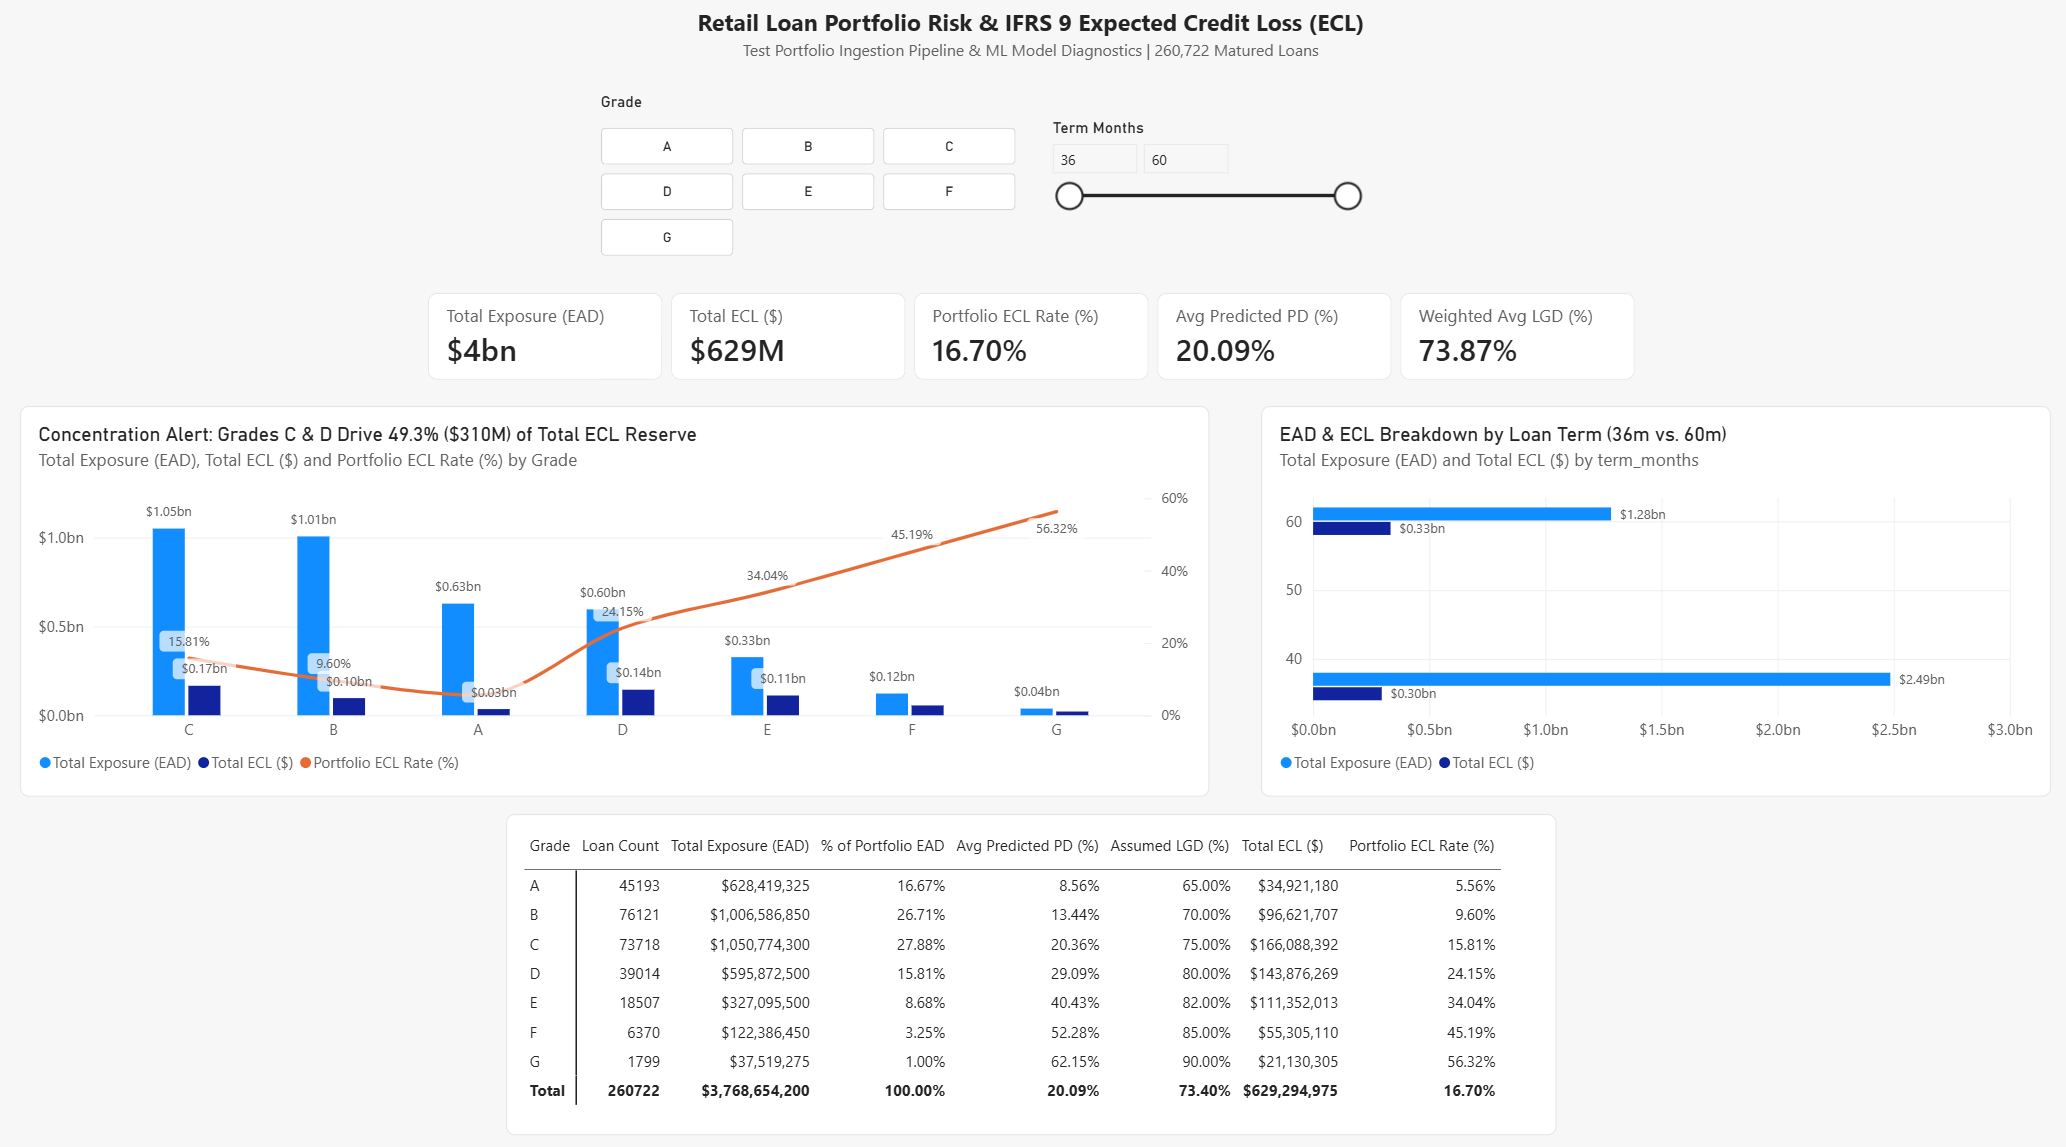

Layout of this report page (visuals, bound fields, positions):
{"tool":"powerbi","page":{"name":"Executive Portfolio & ECL Provisioning Summary","canvas":[1920,1080],"ordinal":0},"visuals":[{"type":"textbox","title":"Retail Loan Portfolio Risk & IFRS 9 Expected Credit Loss (ECL)","box":[648,16,632,64],"z":0},{"type":"advancedSlicerVisual","fields":{"Values":["powerbi_ecl_loan_predictions.Grade"]},"box":[568,96,384,152],"z":1},{"type":"slicer","fields":{"Values":["powerbi_ecl_loan_predictions.term_months"]},"box":[976,120,296,144],"z":2},{"type":"cardVisual","fields":{"Data":["powerbi_ecl_loan_predictions.Total Exposure (EAD)","powerbi_ecl_loan_predictions.Total ECL ($)","powerbi_ecl_loan_predictions.Portfolio ECL Rate (%)","powerbi_ecl_loan_predictions.Avg Predicted PD (%)","powerbi_ecl_loan_predictions.Weighted Avg LGD (%)"]},"box":[408,280,1112,80],"z":3},{"type":"lineClusteredColumnComboChart","title":"Concentration Alert: Grades C & D Drive 49.3% ($310M) of Total ECL Reserve","fields":{"Category":["powerbi_ecl_loan_predictions.Grade"],"Y":["powerbi_ecl_loan_predictions.Total Exposure (EAD)","powerbi_ecl_loan_predictions.Total ECL ($)"],"Y2":["powerbi_ecl_loan_predictions.Portfolio ECL Rate (%)"]},"box":[32,384,1096,360],"z":4},{"type":"clusteredBarChart","title":"EAD & ECL Breakdown by Loan Term (36m vs. 60m)","fields":{"Category":["powerbi_ecl_loan_predictions.term_months"],"Y":["powerbi_ecl_loan_predictions.Total Exposure (EAD)","powerbi_ecl_loan_predictions.Total ECL ($)"]},"box":[1176,384,728,360],"z":5},{"type":"pivotTable","fields":{"Rows":["powerbi_ecl_loan_predictions.Grade"],"Values":["powerbi_ecl_loan_predictions.Loan Count","powerbi_ecl_loan_predictions.Total Exposure (EAD)","powerbi_ecl_loan_predictions.% of Portfolio EAD","powerbi_ecl_loan_predictions.Avg Predicted PD (%)","powerbi_ecl_loan_predictions.Assumed LGD (%)","powerbi_ecl_loan_predictions.Total ECL ($)","powerbi_ecl_loan_predictions.Portfolio ECL Rate (%)"]},"box":[480,760,968,296],"z":6}]}

Visuals, with their boxes in screenshot pixels (x1, y1, x2, y2), scaled from the page's 1920x1080 canvas onto the 2066x1147 screenshot:
"Retail Loan Portfolio Risk & IFRS 9 Expected Credit Loss (ECL)" textbox: x1=697 y1=17 x2=1377 y2=85
advancedSlicerVisual - powerbi_ecl_loan_predictions.Grade: x1=611 y1=102 x2=1024 y2=263
slicer - powerbi_ecl_loan_predictions.term_months: x1=1050 y1=127 x2=1369 y2=280
cardVisual - powerbi_ecl_loan_predictions.Total Exposure (EAD) x powerbi_ecl_loan_predictions.Total ECL ($): x1=439 y1=297 x2=1636 y2=382
"Concentration Alert: Grades C & D Drive 49.3% ($310M) of Total ECL Reserve" lineClusteredColumnComboChart: x1=34 y1=408 x2=1214 y2=790
"EAD & ECL Breakdown by Loan Term (36m vs. 60m)" clusteredBarChart: x1=1265 y1=408 x2=2049 y2=790
pivotTable - powerbi_ecl_loan_predictions.Grade x powerbi_ecl_loan_predictions.Loan Count: x1=516 y1=807 x2=1558 y2=1122
